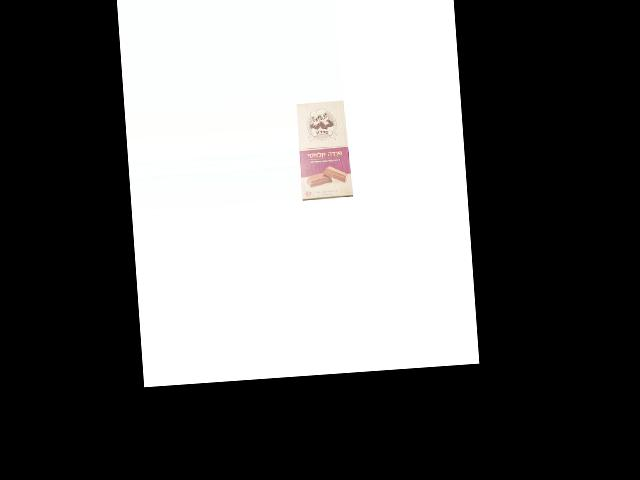chocolate: (297, 99, 354, 200)
